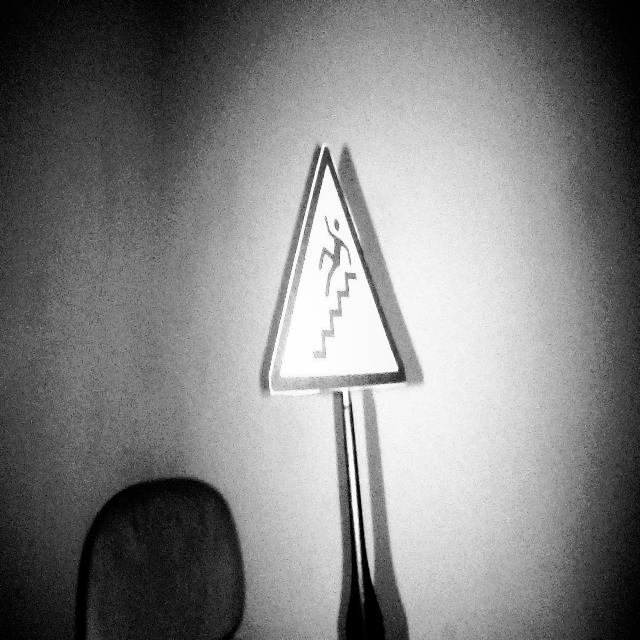Sign: (267, 140, 407, 398)
